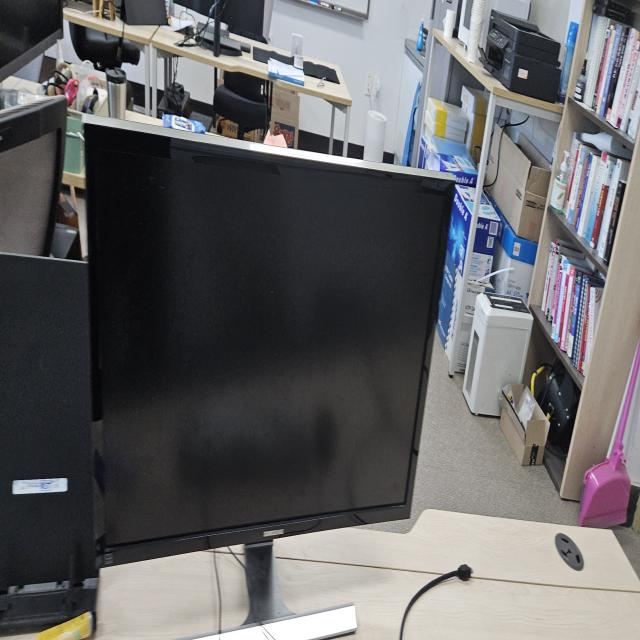Monitor: (80, 115, 458, 547)
